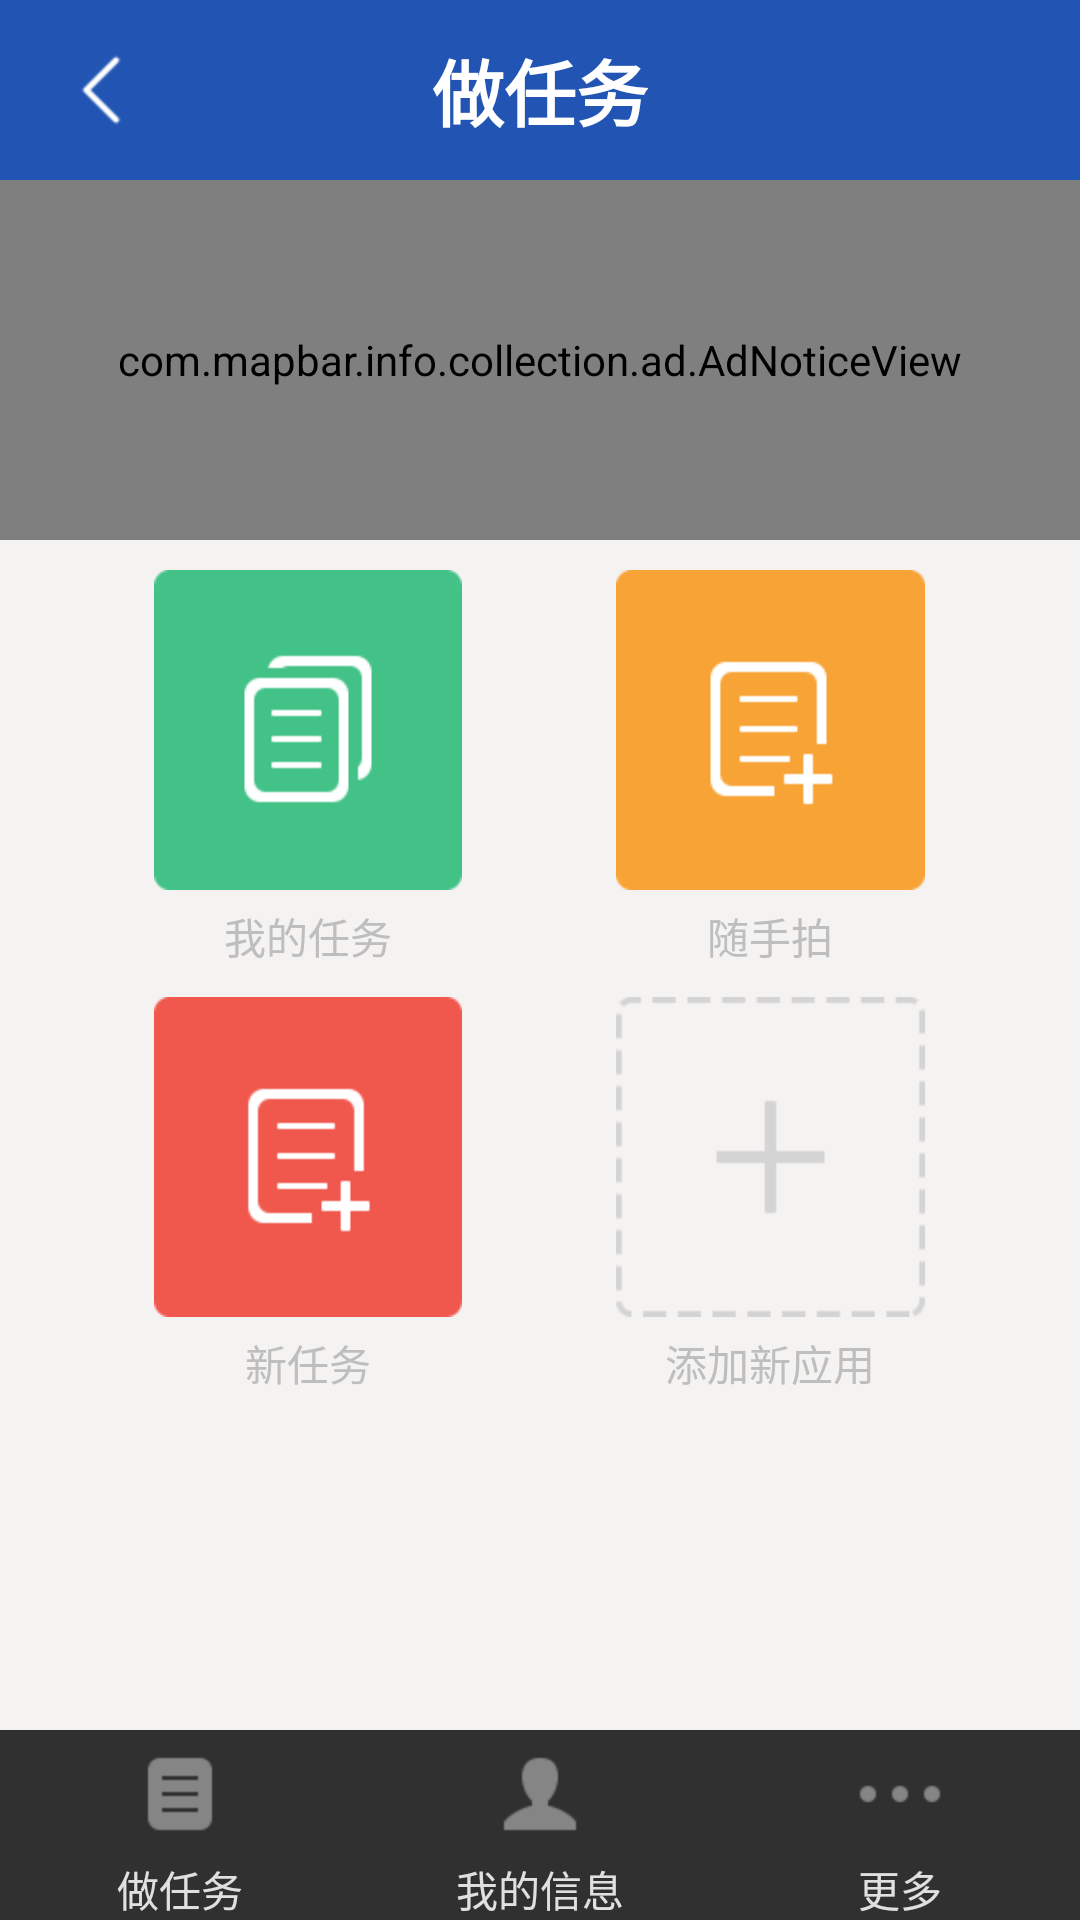

Named icons in this screenshot (1080px x 1920px) and their bounding boxes, (x1, y1, x2, y2):
back: (82, 56, 120, 124)
